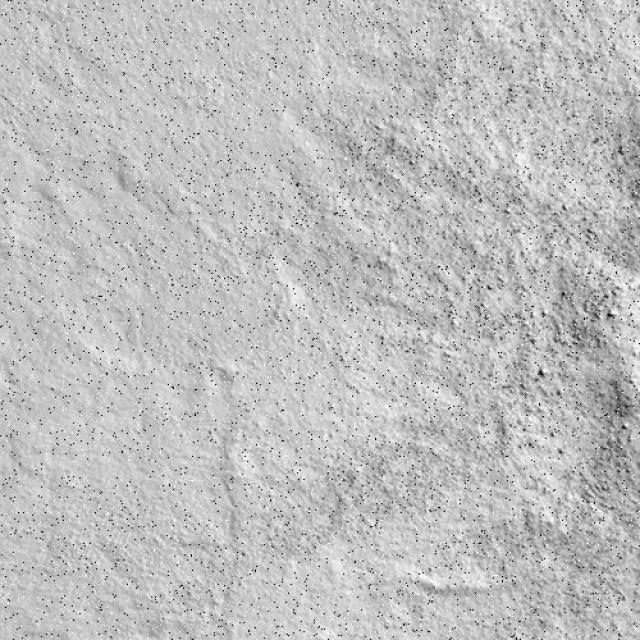crater: (452, 95, 640, 507)
